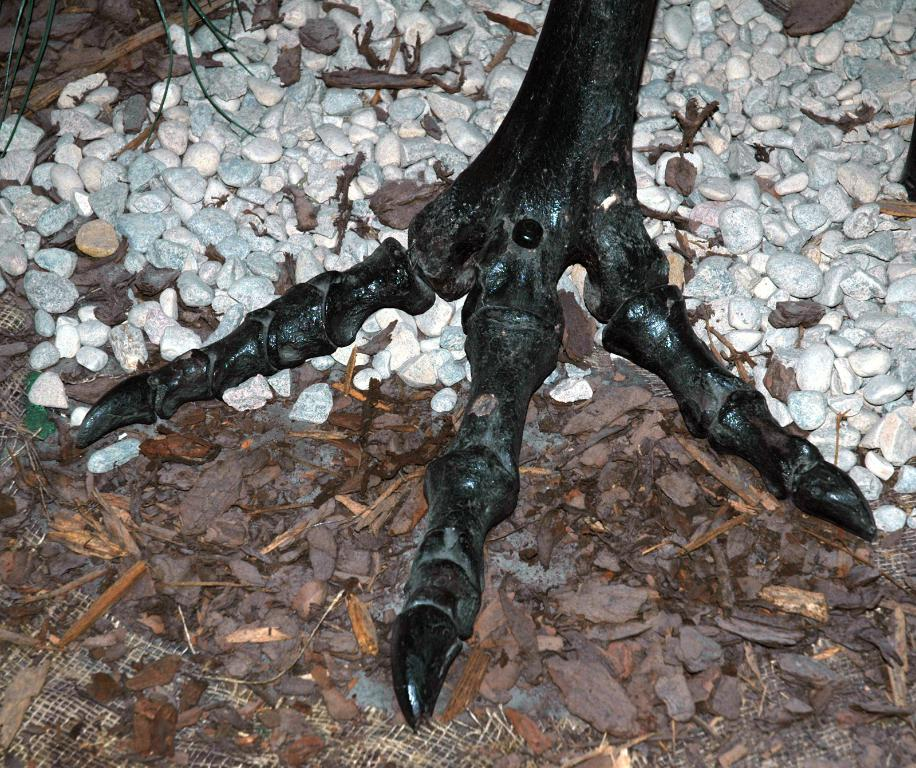Animal: (73, 0, 876, 726)
